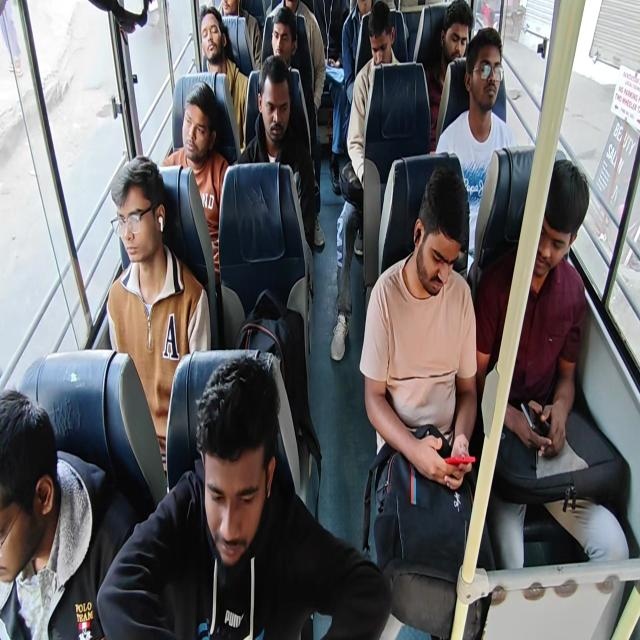person: (95, 353, 392, 639), (359, 164, 495, 638), (474, 158, 630, 570), (106, 154, 211, 483), (0, 388, 136, 638), (330, 1, 401, 361), (434, 26, 517, 279), (236, 54, 318, 250), (266, 6, 326, 246), (160, 81, 230, 284), (308, 0, 350, 194), (424, 0, 473, 152), (198, 5, 249, 149), (267, 7, 314, 156), (341, 0, 372, 106), (218, 0, 262, 72), (0, 0, 23, 76)
